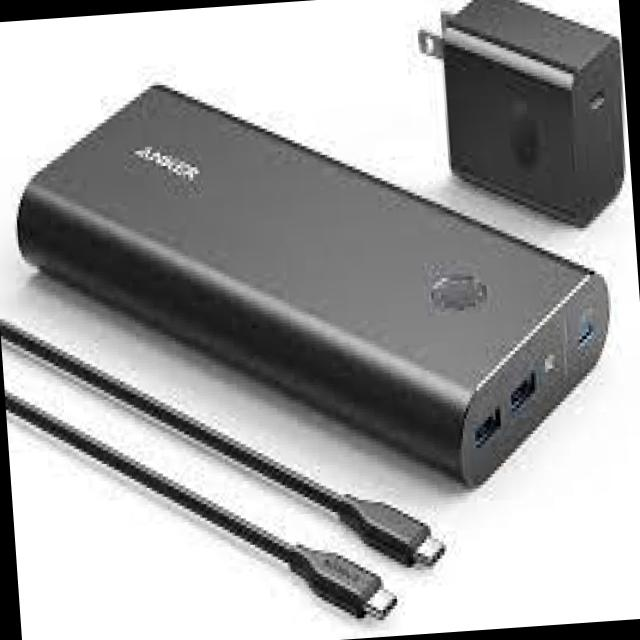power_bank: (5, 41, 628, 528)
